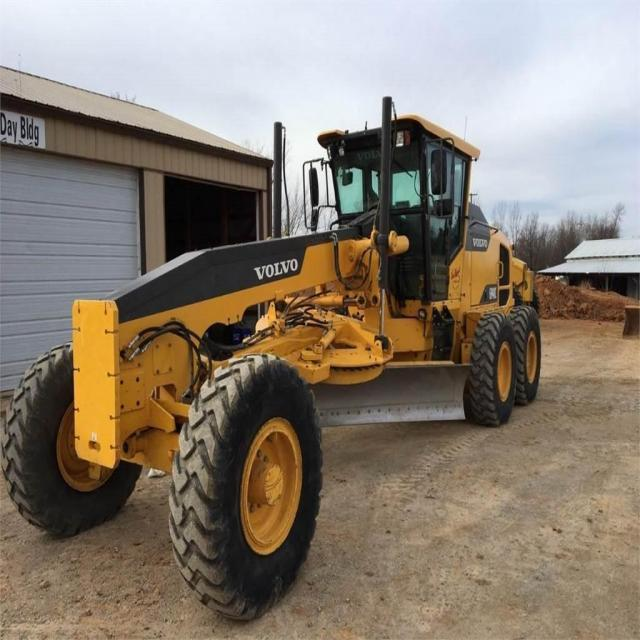Grader: (4, 90, 548, 620)
